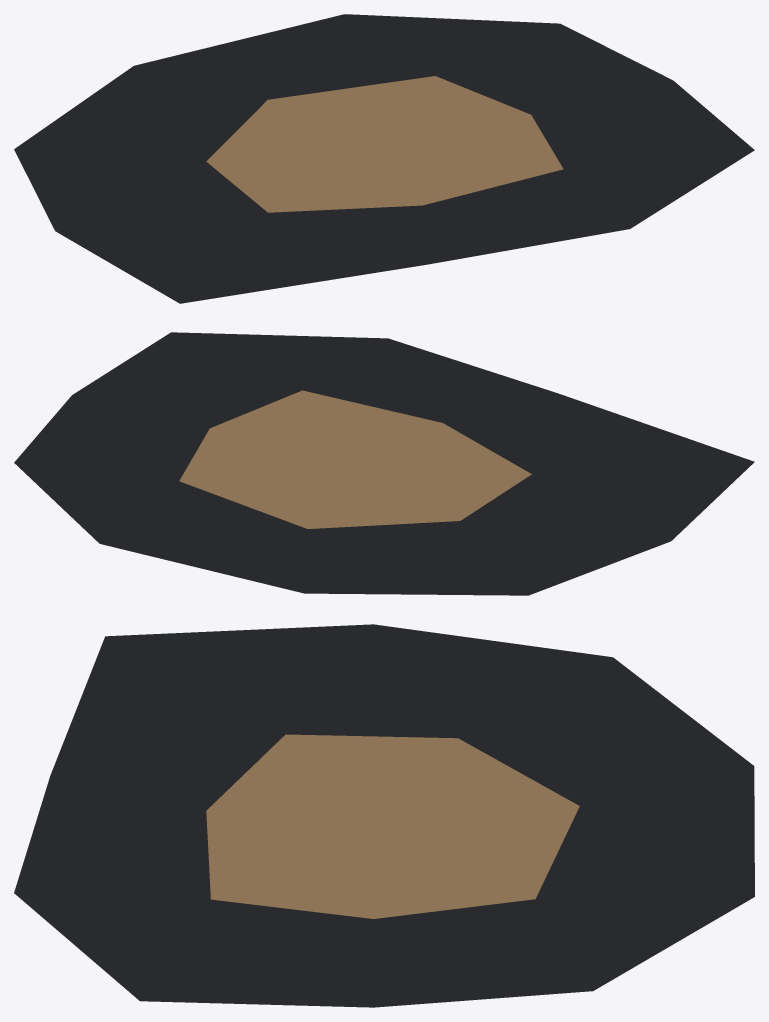
File: Decal_Pothole_Large.glb
3 views of the same model, one above another, from view 1: azimuth 30°, elevation 25°; view 2: azimuth 150°, elevation 25°; view 3: azimuth 270°, elevation 25° (orthographic). The views are drawn at different scales.
Parts seen in each view (by area): view 1: Decal_Pothole_Large_Rubber, Decal_Pothole_Large_Dirt; view 2: Decal_Pothole_Large_Rubber, Decal_Pothole_Large_Dirt; view 3: Decal_Pothole_Large_Rubber, Decal_Pothole_Large_Dirt.
Part boxes in pixels (x1,y1,x2,y2): Decal_Pothole_Large_Rubber: [14, 14, 754, 303]; Decal_Pothole_Large_Dirt: [206, 76, 563, 212]; Decal_Pothole_Large_Rubber: [14, 332, 754, 595]; Decal_Pothole_Large_Dirt: [179, 390, 531, 528]; Decal_Pothole_Large_Rubber: [14, 624, 754, 1007]; Decal_Pothole_Large_Dirt: [206, 734, 579, 918].
Bounding box in the file's own units: 1.98 × 0.001 × 1.62.
